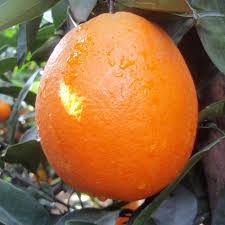orange: (32, 15, 200, 198)
